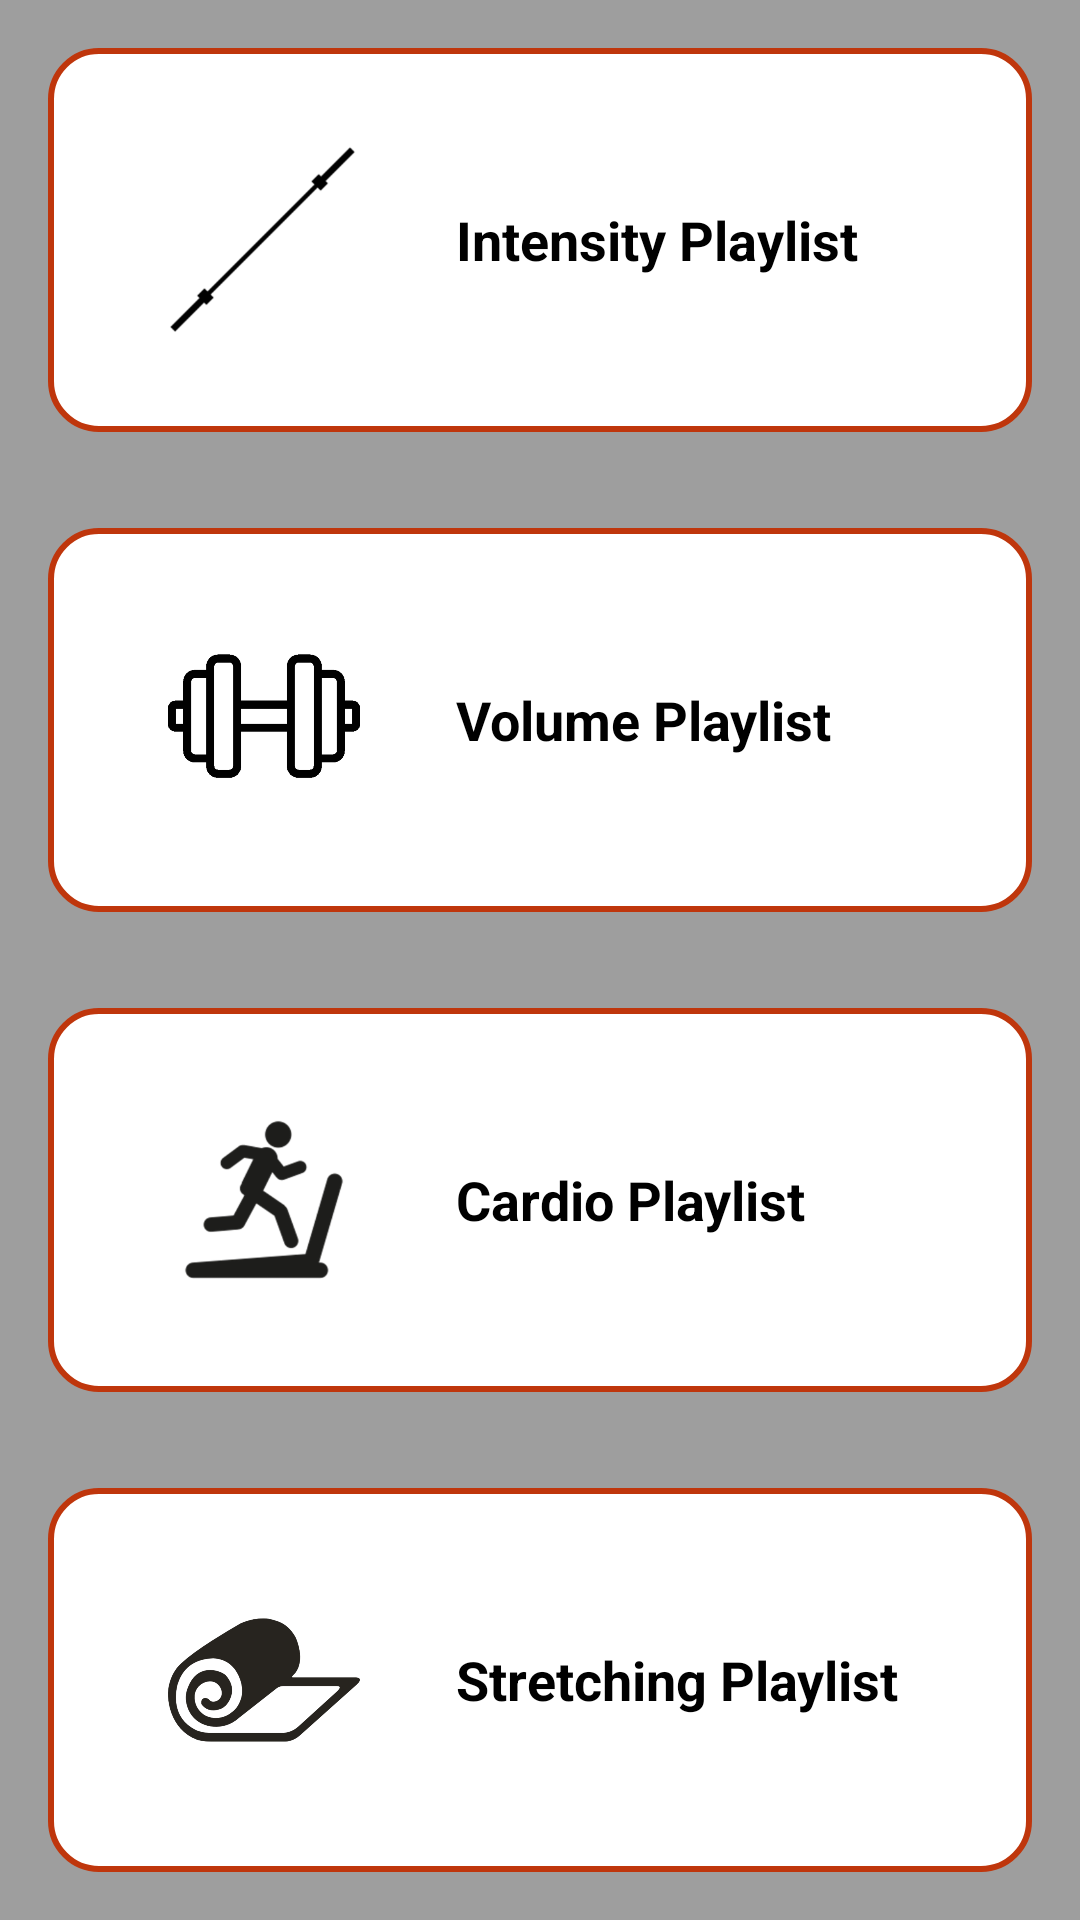

Where to tap for icons on this 1080px×1920px app screen, as (x=x, y=y):
dumbbell: (x=264, y=716)
